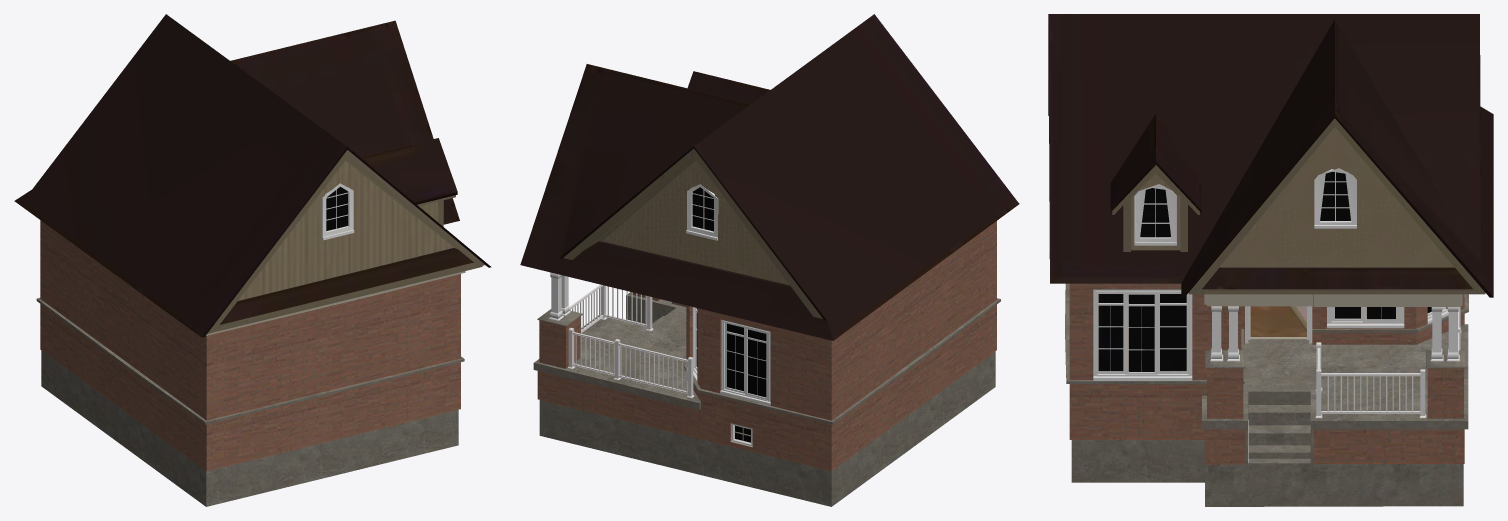
The model's file is house_with_interior.glb.
The picture shows the model from 3 angles, left to right: view 1: azimuth 30°, elevation 25°; view 2: azimuth 150°, elevation 25°; view 3: azimuth 270°, elevation 25°; orthographic projection. The views are drawn at different scales.
Parts seen in each view (by area): view 1: Vrch Vonok.001_4, Spodok vonok.001_0, Spodok vonok2.006_1, VnutroVrch_3; view 2: Vrch Vonok.001_4, Spodok vonok.001_0, Spodok vonok2.006_1, VnutroSpodok_2, VnutroVrch_3; view 3: Vrch Vonok.001_4, Spodok vonok2.006_1, Spodok vonok.001_0, VnutroSpodok_2, VnutroVrch_3.
Boxes of the visible parts, x1,y1,x2,y2 form: Vrch Vonok.001_4: (14, 14, 491, 337); Spodok vonok.001_0: (36, 220, 465, 470); Spodok vonok2.006_1: (41, 350, 458, 506); VnutroVrch_3: (322, 183, 354, 240); Vrch Vonok.001_4: (520, 14, 1019, 340); Spodok vonok.001_0: (537, 221, 1000, 470); Spodok vonok2.006_1: (533, 272, 995, 506); VnutroSpodok_2: (692, 307, 770, 405); VnutroVrch_3: (686, 184, 718, 240); Vrch Vonok.001_4: (1048, 14, 1493, 297); Spodok vonok2.006_1: (1071, 294, 1468, 506); Spodok vonok.001_0: (1065, 283, 1468, 464); VnutroSpodok_2: (1093, 289, 1465, 380); VnutroVrch_3: (1134, 168, 1356, 245).
Bounding box in the file's own units: 8.08 × 8.23 × 8.33.
Materials: 5 (5 with a texture image).
